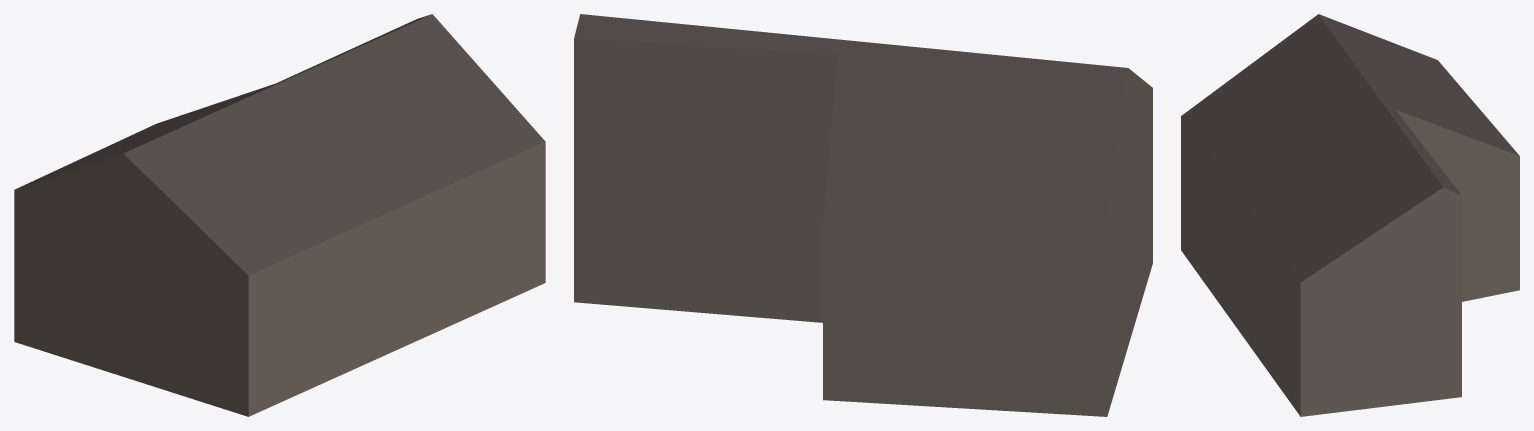
The picture shows the model from 3 angles, left to right: view 1: azimuth 30°, elevation 25°; view 2: azimuth 150°, elevation 25°; view 3: azimuth 270°, elevation 25°; orthographic projection. The views are drawn at different scales.
Parts seen in each view (by area): view 1: HP-w1512800279; view 2: HP-w1512800279; view 3: HP-w1512800279.
Boxes of the visible parts, left/top/right/bottom form: HP-w1512800279: left=14, top=14, right=545, bottom=416; HP-w1512800279: left=574, top=14, right=1152, bottom=416; HP-w1512800279: left=1181, top=14, right=1519, bottom=416.
Bounding box in the file's own units: 30.55 × 14.21 × 20.6.
